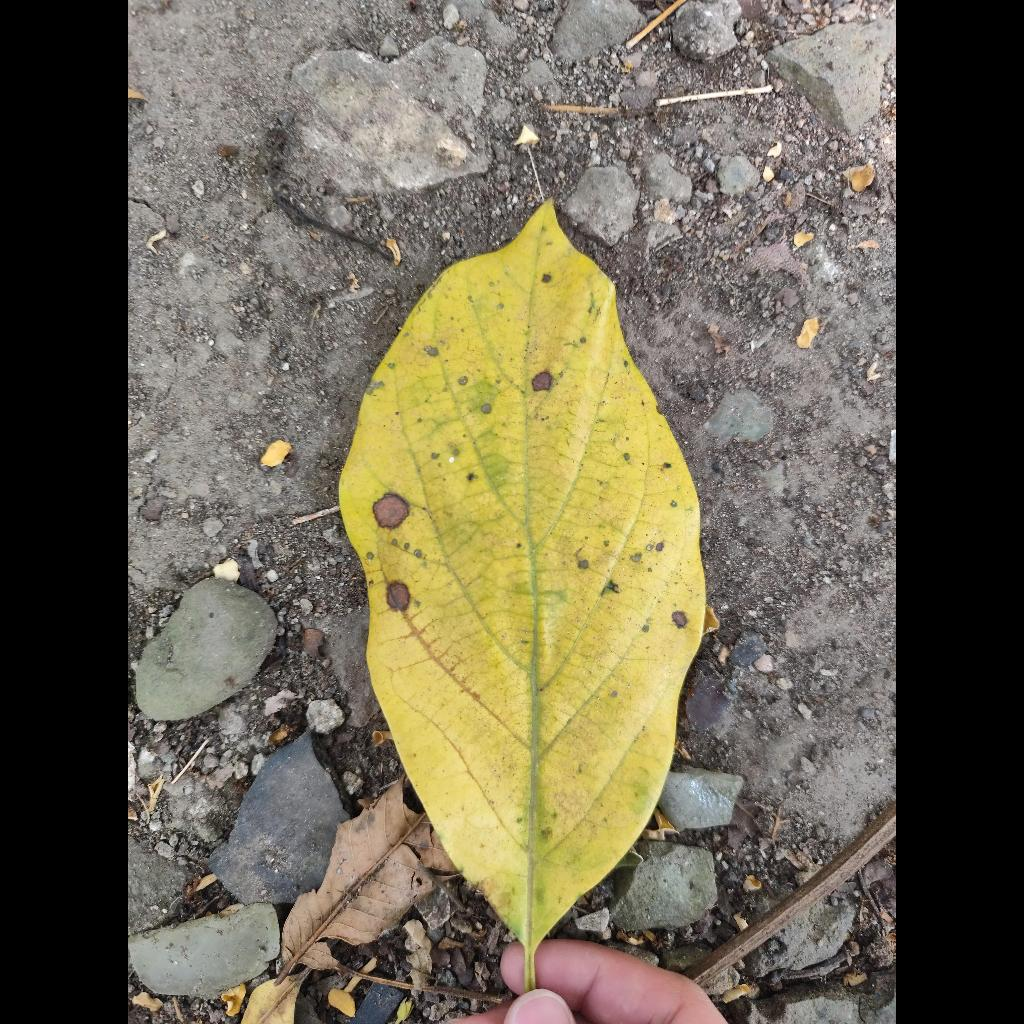deficiencia_nutricional: (339, 201, 706, 987)
